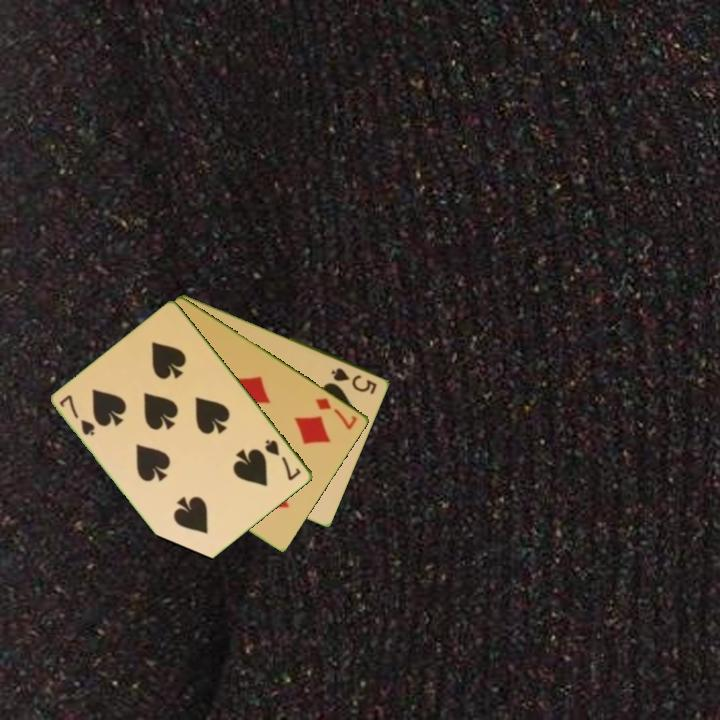5s: (328, 364, 380, 398)
7d: (312, 394, 360, 433)
7s: (56, 391, 98, 439), (262, 436, 304, 483)
